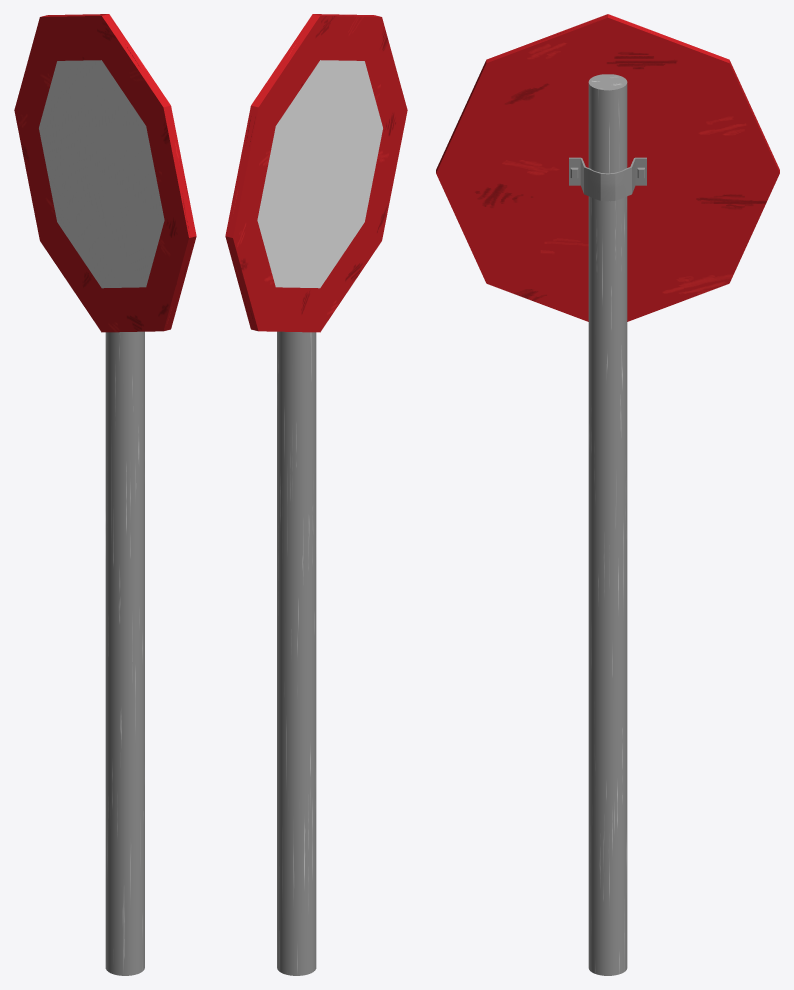
Rendered from Panneau 1.fbx.
The picture shows the model from 3 angles, left to right: view 1: azimuth 30°, elevation 25°; view 2: azimuth 150°, elevation 25°; view 3: azimuth 270°, elevation 25°; orthographic projection.
Parts seen in each view (by area): view 1: panneau octogone, attache; view 2: panneau octogone, attache; view 3: panneau octogone, attache.
Boxes of the visible parts, left/top/right/bottom form: panneau octogone: left=14, top=14, right=196, bottom=332; attache: left=105, top=331, right=144, bottom=975; panneau octogone: left=225, top=14, right=407, bottom=332; attache: left=277, top=331, right=316, bottom=975; panneau octogone: left=436, top=14, right=779, bottom=321; attache: left=569, top=74, right=646, bottom=975.
Bounding box in the file's own units: 28.79 × 605 × 200.
4 materials, 2 textured.
